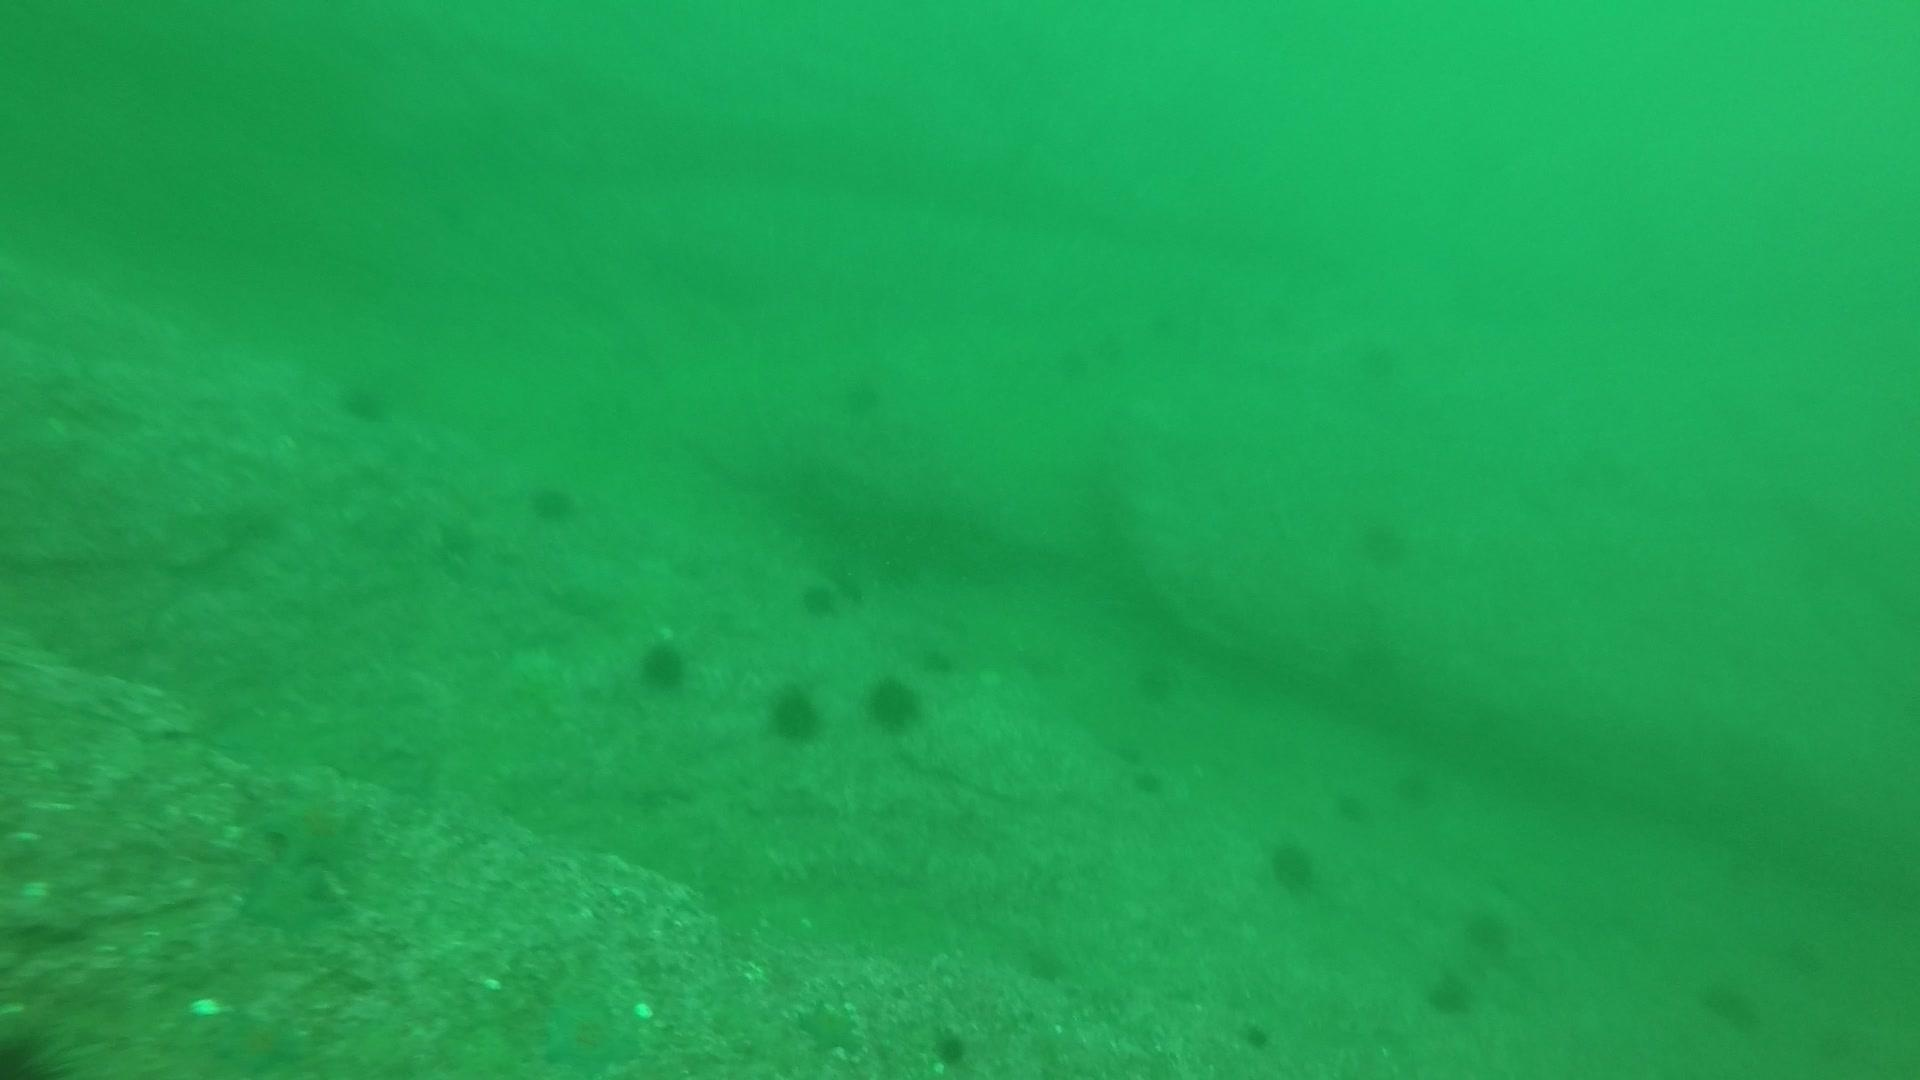echinus: (1, 1019, 79, 1077), (861, 670, 928, 735), (1695, 971, 1764, 1033), (762, 680, 825, 746), (1262, 833, 1323, 895), (1352, 509, 1414, 570), (633, 634, 694, 694), (1458, 901, 1518, 957), (336, 375, 396, 427), (1422, 968, 1478, 1021), (1785, 928, 1845, 978), (1731, 828, 1791, 878), (525, 476, 582, 527), (1129, 655, 1183, 708), (1390, 760, 1443, 812), (795, 574, 847, 622), (928, 1025, 973, 1072), (1325, 789, 1371, 825), (1127, 766, 1174, 802), (1234, 1015, 1280, 1051), (1043, 347, 1089, 381), (1089, 324, 1135, 359), (1137, 309, 1183, 343), (1356, 339, 1402, 373), (847, 386, 891, 419), (924, 644, 965, 676), (1023, 645, 1064, 678), (1118, 748, 1153, 775)
holothurian: (765, 836, 868, 893)
starfish: (255, 777, 369, 876), (531, 986, 644, 1073), (237, 866, 347, 942), (204, 1007, 311, 1075), (793, 998, 866, 1062), (429, 509, 487, 568), (1021, 938, 1071, 981)
